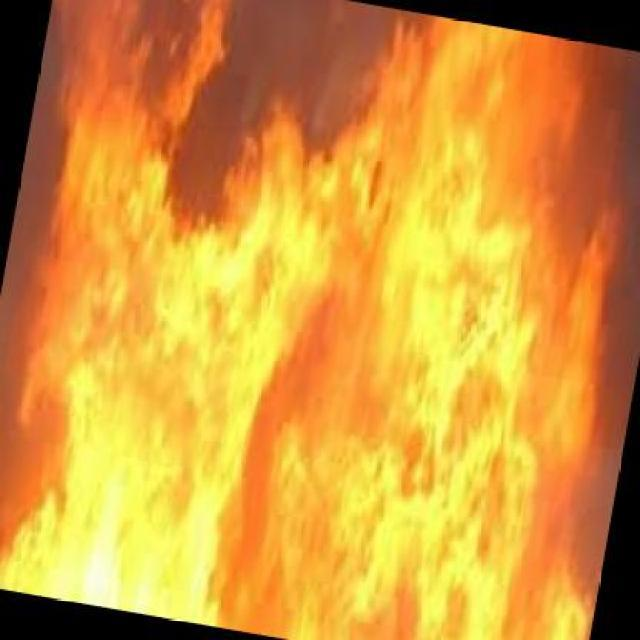Fire: (49, 19, 600, 634)
